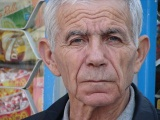male: (42, 2, 144, 109)
